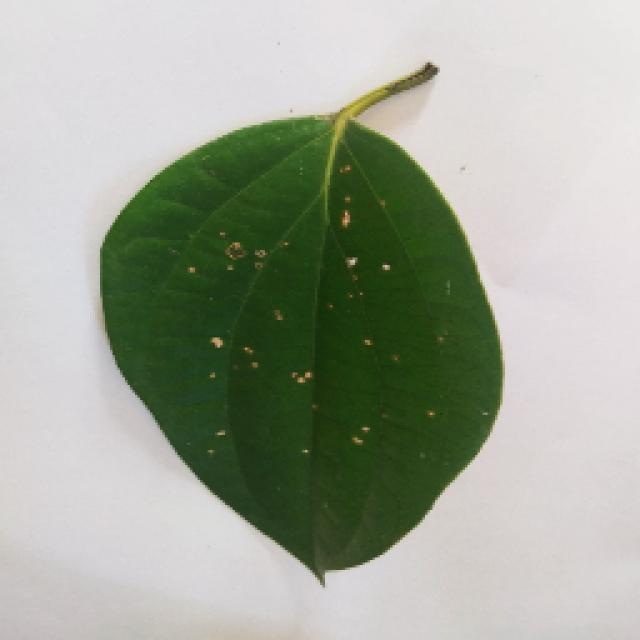pollu-disease: (67, 72, 535, 590)
